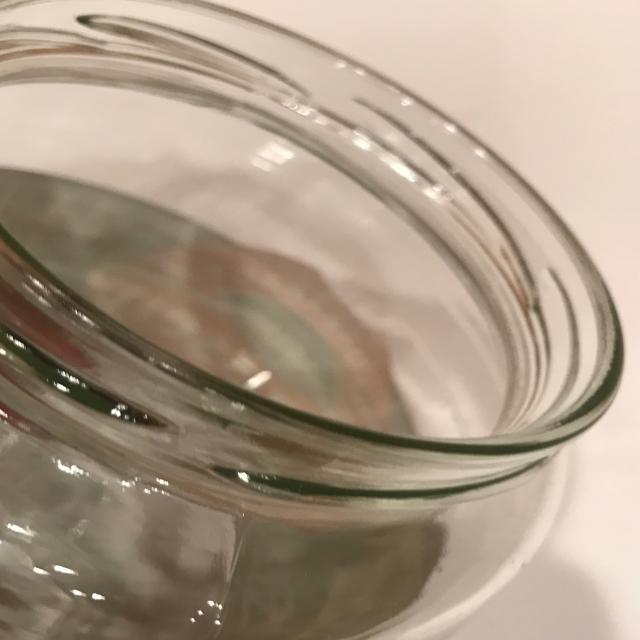glass: (0, 0, 628, 640)
